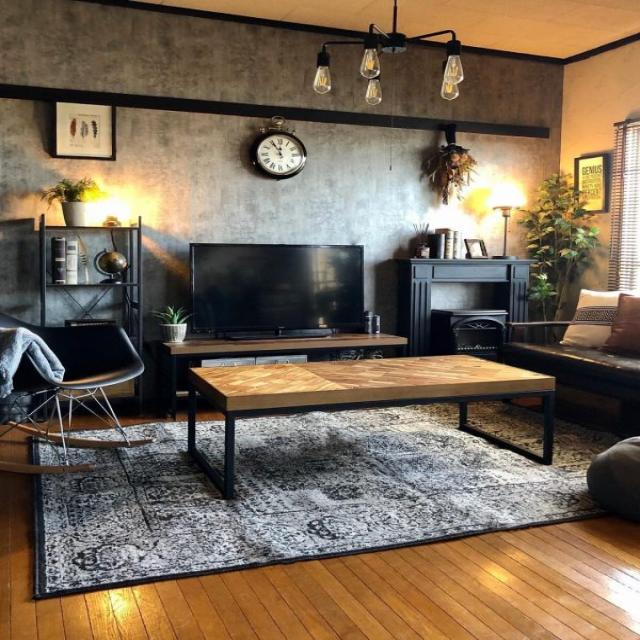vintage chair: (0, 305, 142, 472), (502, 285, 640, 434)
vintage desk: (188, 351, 560, 490)
